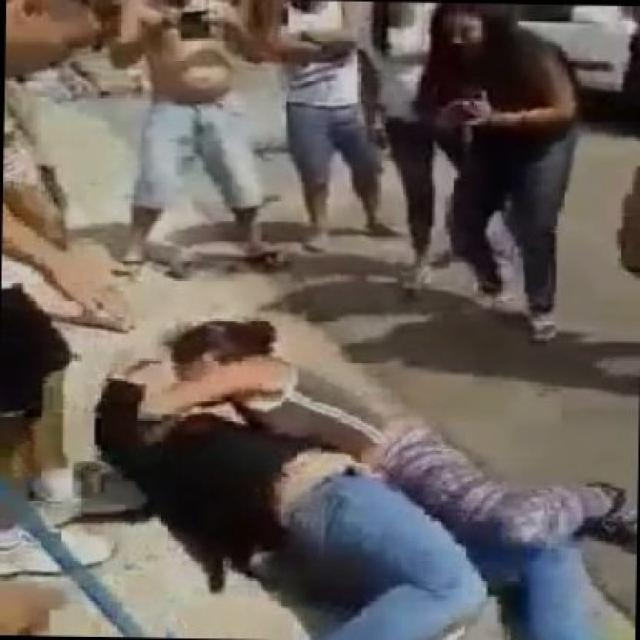fight: (97, 315, 640, 640)
non-fight: (415, 1, 579, 335), (108, 0, 280, 276), (278, 0, 406, 252), (367, 0, 442, 288)
